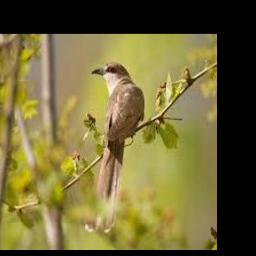Cuckoo: (86, 62, 145, 232)
